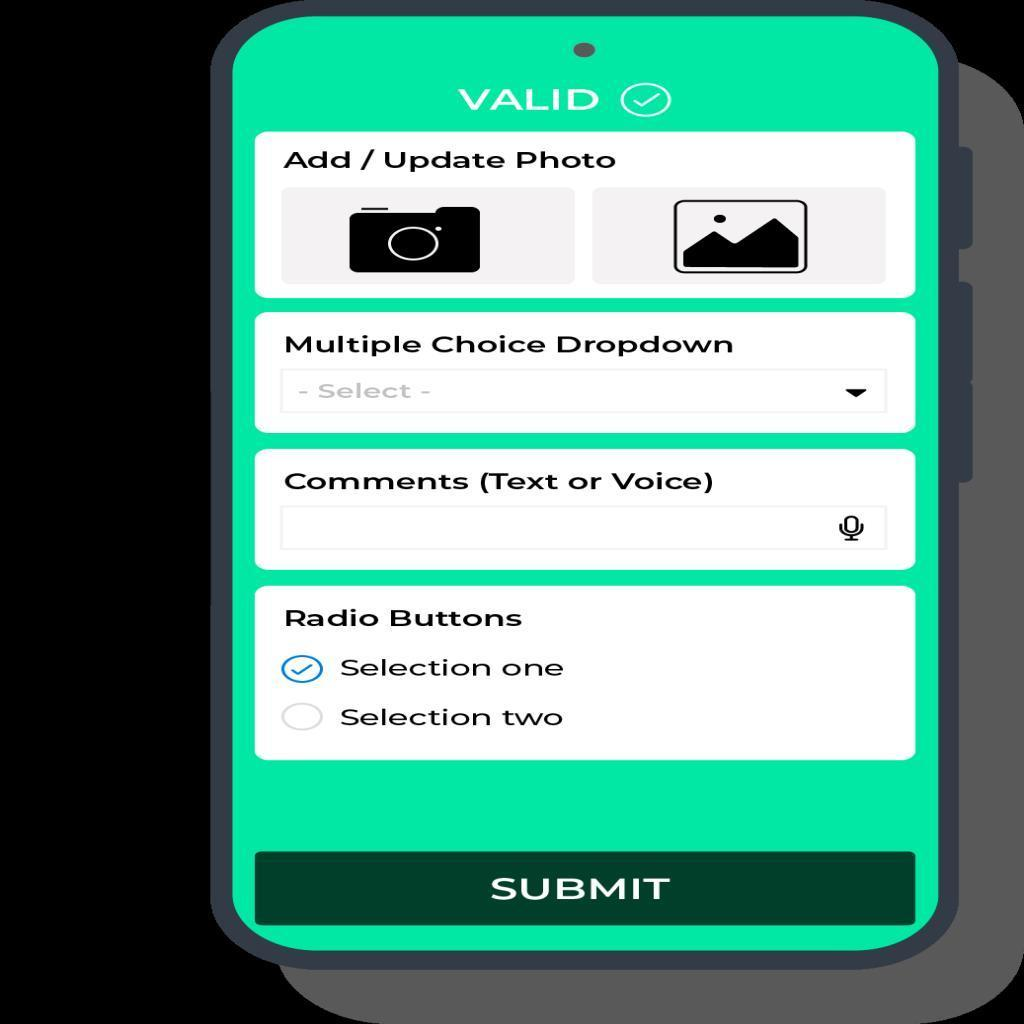button: (254, 852, 916, 927)
dropdown: (274, 365, 895, 418)
icon: (665, 191, 821, 284), (344, 194, 493, 282)
input: (279, 504, 891, 554)
radio: (276, 655, 333, 690), (278, 702, 327, 736)
